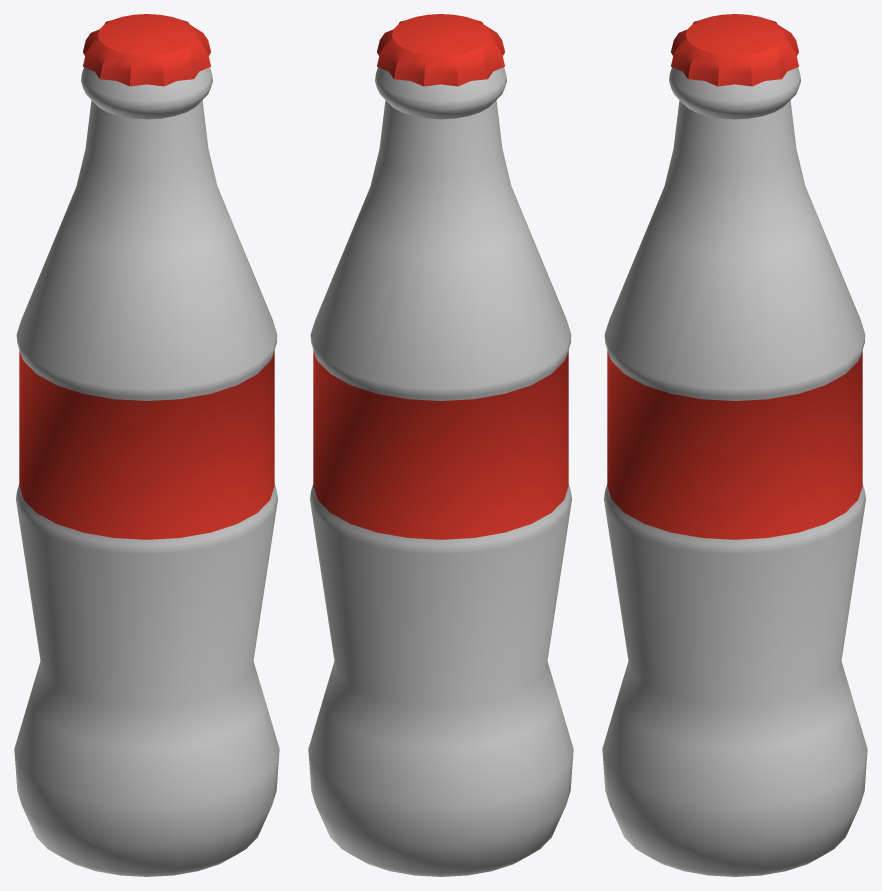
Rendered from cola.fbx.
3 views of the same model, side by side, from view 1: azimuth 30°, elevation 25°; view 2: azimuth 150°, elevation 25°; view 3: azimuth 270°, elevation 25° (orthographic).
Parts seen in each view (by area): view 1: Cylinder; view 2: Cylinder; view 3: Cylinder.
Boxes of the visible parts, left/top/right/bottom form: Cylinder: left=14, top=14, right=279, bottom=876; Cylinder: left=308, top=14, right=573, bottom=876; Cylinder: left=602, top=14, right=867, bottom=876.
Bounding box in the file's own units: 143 × 479 × 143.
